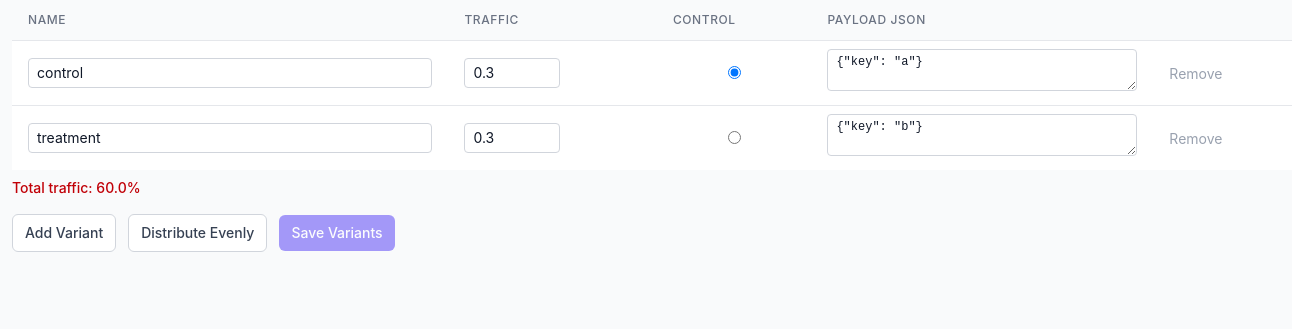
Scenario: VariantForm › shows banner error when traffic does not sum to 1.0 on save
Note: Make dirty
Replace the text in the field showing "control" with "ctrl": coordinates (230, 73) [28,58,432,88]
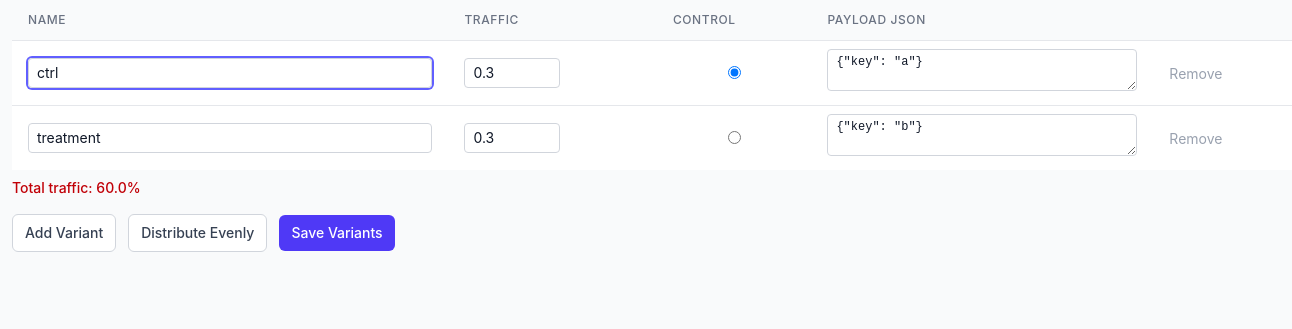
Click the button "Save Variants": coordinates (337, 233) [279,215,395,251]
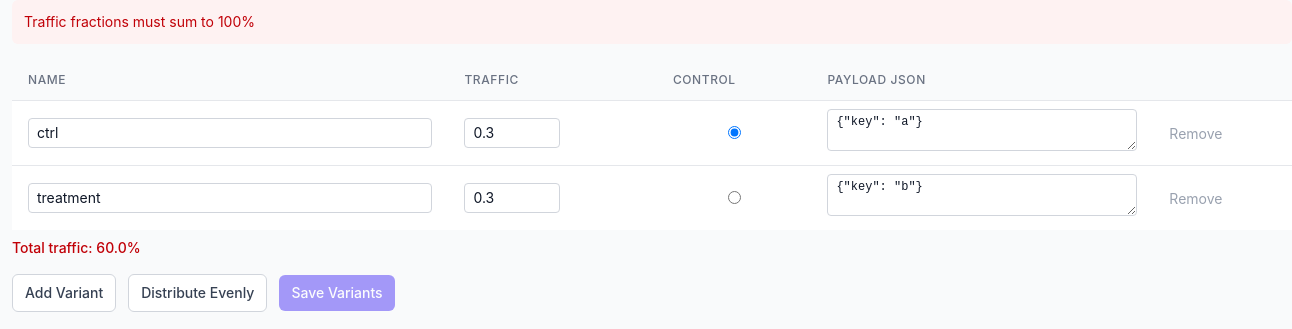
Now the message "Traffic fractions must sum to 100%" is shown, box [12,0,1291,44]
